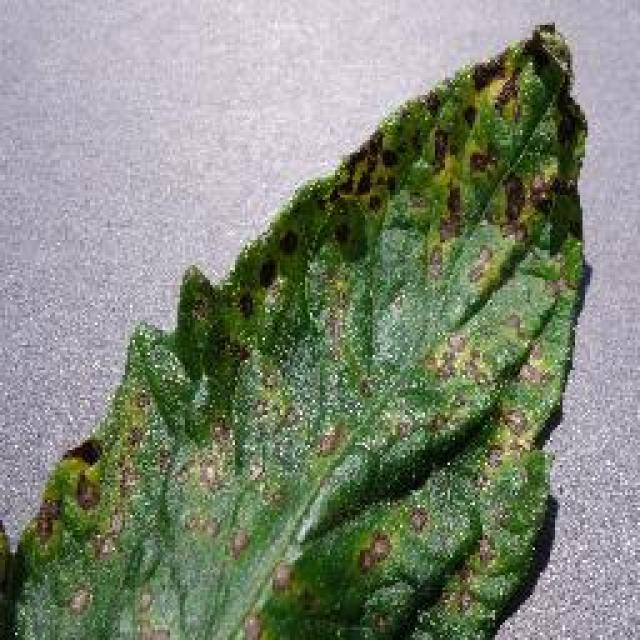Tomato Septoria spot leaf: (4, 25, 592, 640)
